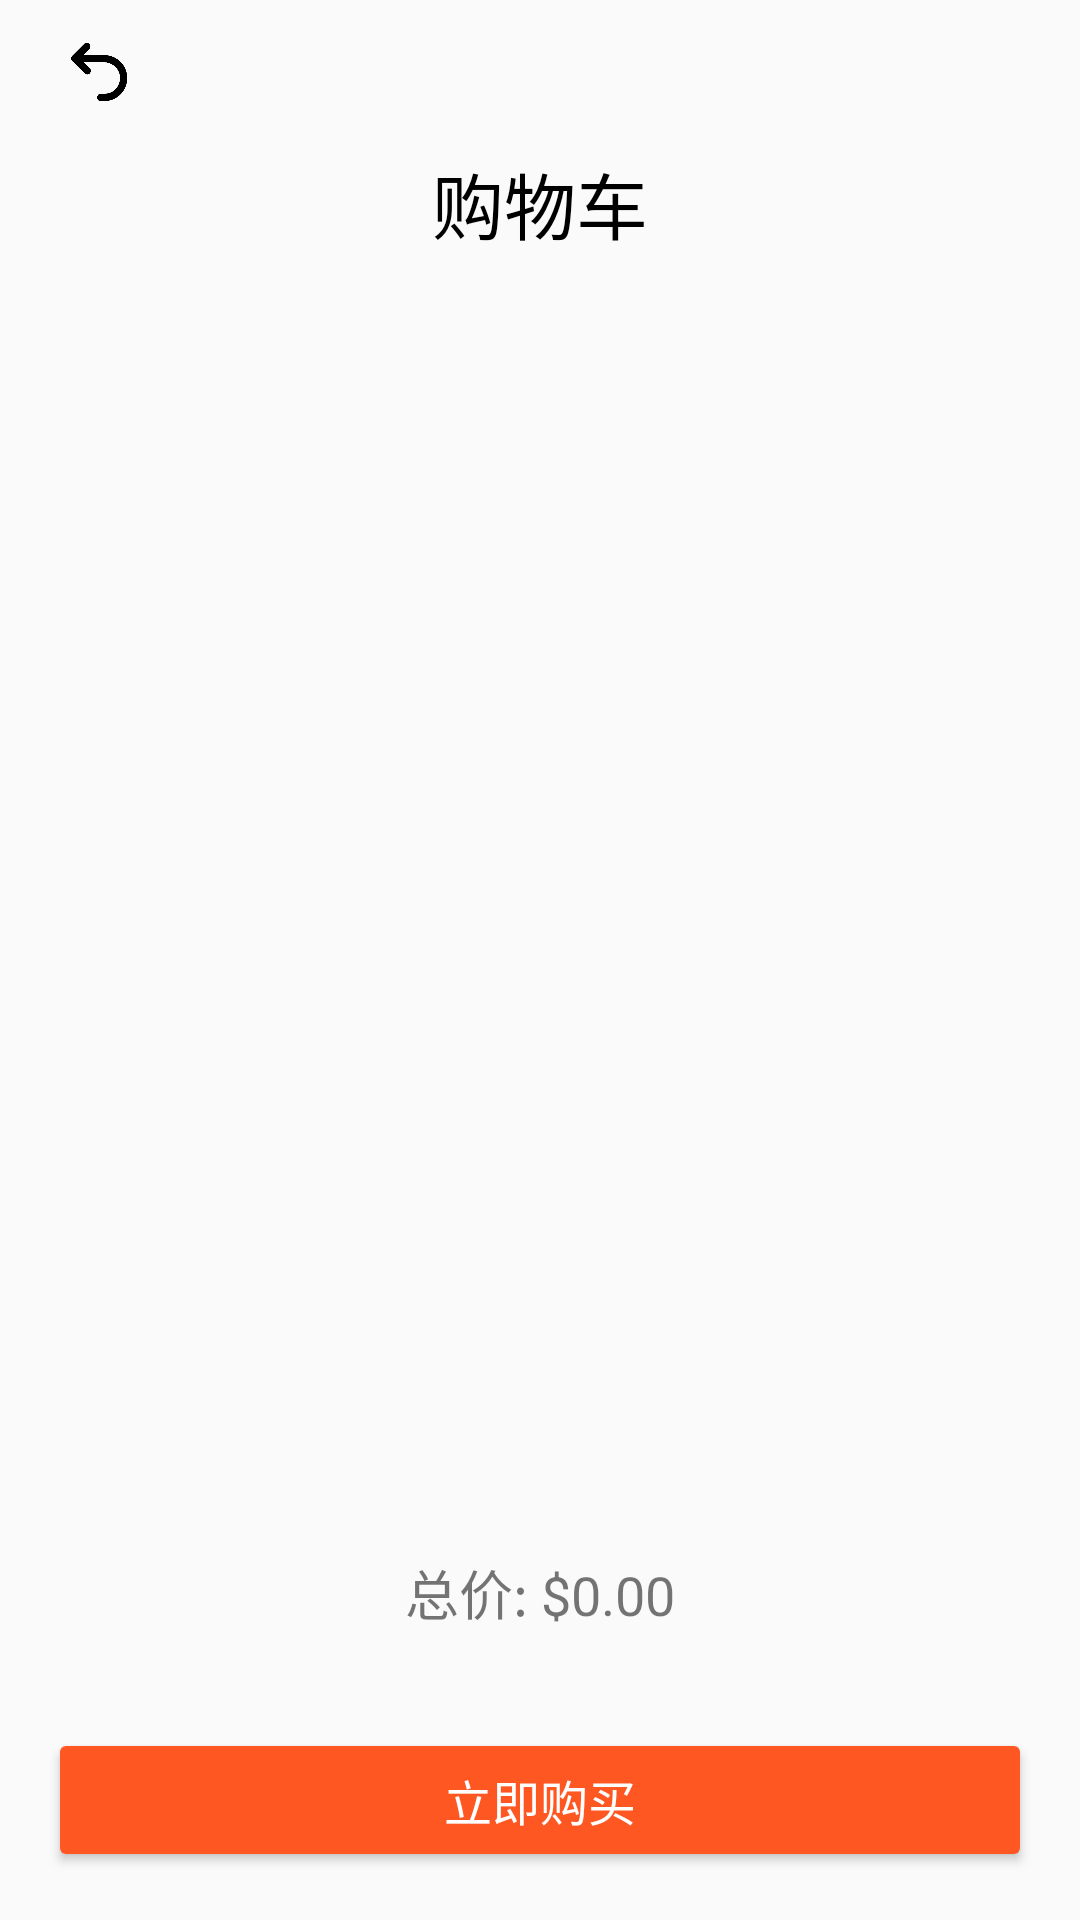

Screen size 1080*1920. Icon name, then its box in pixels as rect(x1, y1, x2, y2):
return: rect(71, 43, 127, 101)
